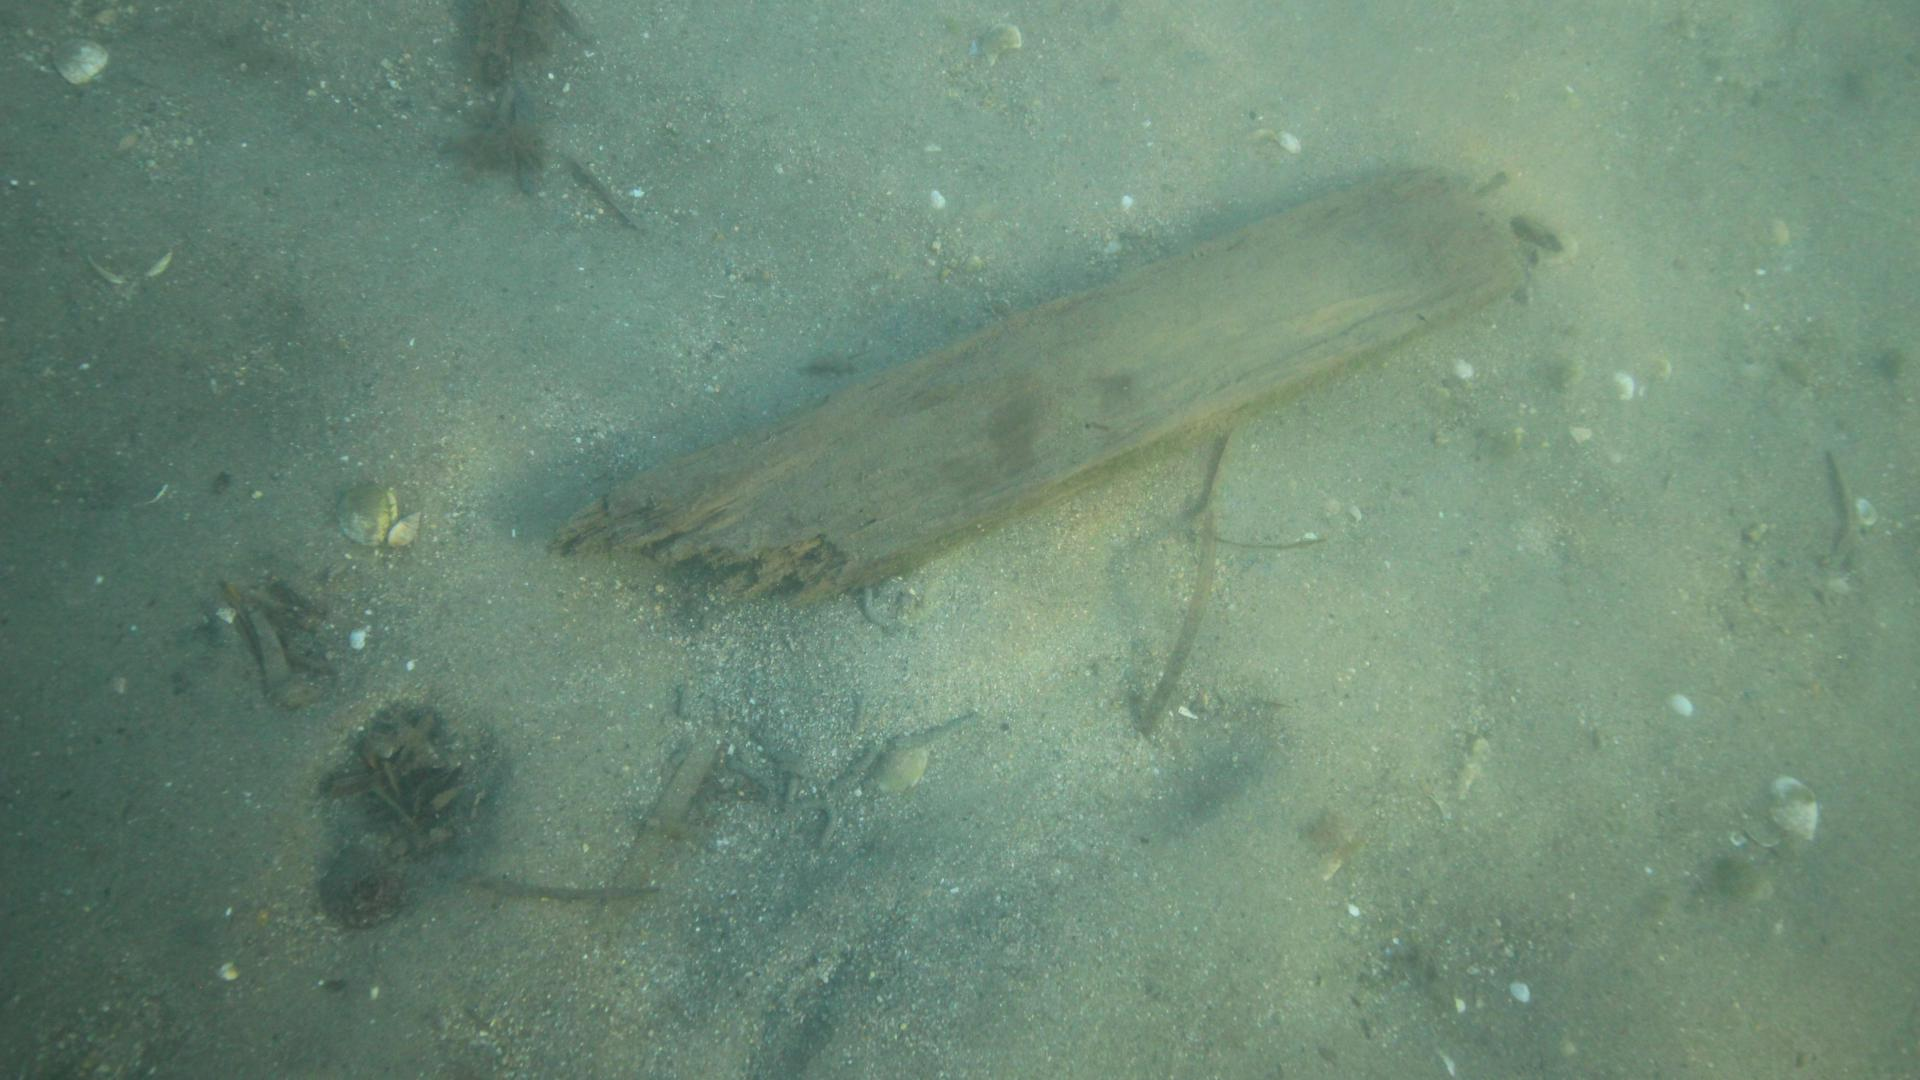wood: (543, 170, 1514, 608)
